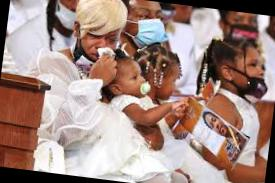mask_weared_incorrect: (83, 30, 120, 68), (242, 57, 275, 99), (57, 1, 81, 26)
with_mask: (131, 4, 167, 43), (226, 13, 261, 38)
without_mask: (123, 65, 155, 98), (202, 111, 228, 137), (164, 70, 184, 100)
